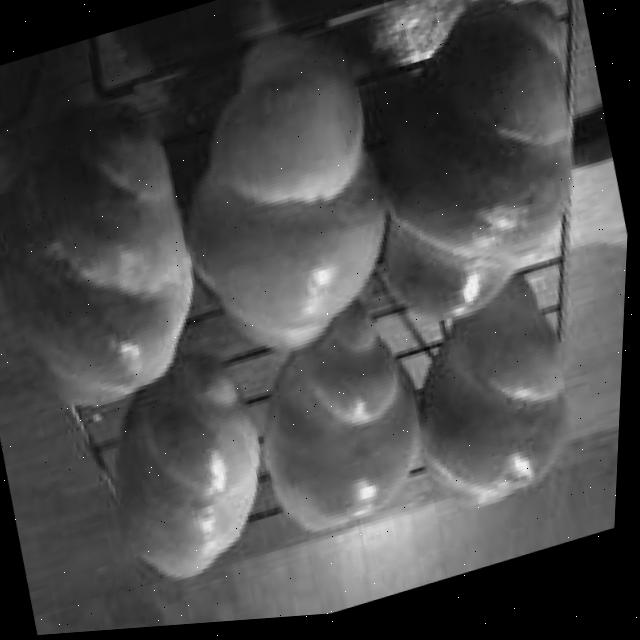面包点心: (160, 17, 439, 389), (349, 0, 639, 350), (0, 83, 253, 447), (397, 277, 615, 557), (95, 346, 307, 632), (242, 292, 457, 565)
